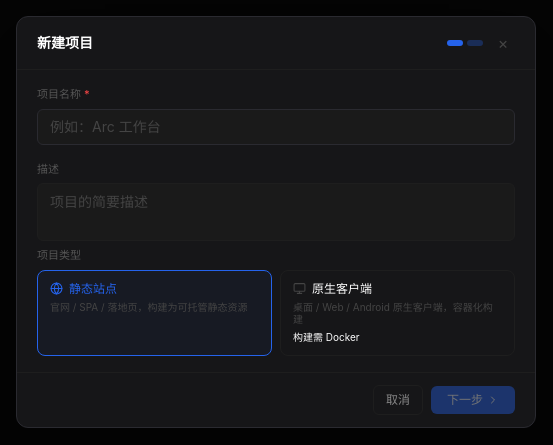
CreateProjectModal › enables next button when name is filled
This screenshot has width=553, height=445.
Type "测试项目" into the field with placeholder "例如：Arc 工作台" at (276, 127), box top-left (37, 109), bottom-right (515, 145)
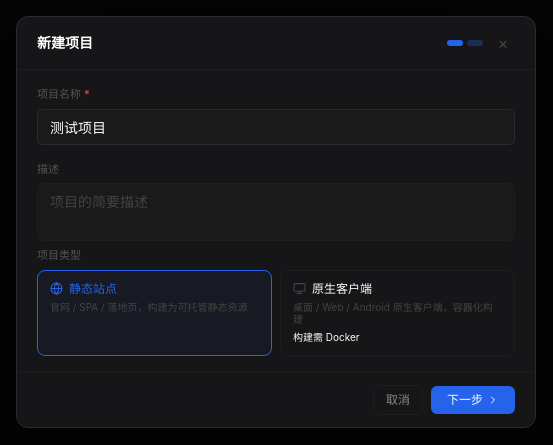
Check: the button "下一步" is enabled, box top-left (431, 386), bottom-right (515, 414)
